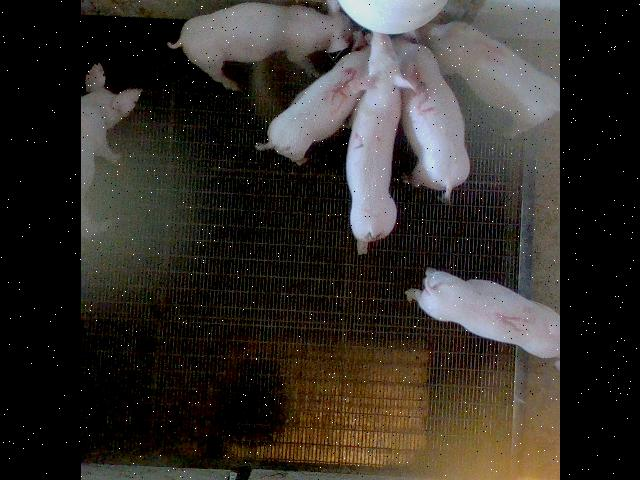pig-1: (405, 270, 559, 358)
pig-3: (392, 39, 468, 200)
pig-4: (418, 25, 559, 136)
pig-5: (255, 50, 368, 164)
